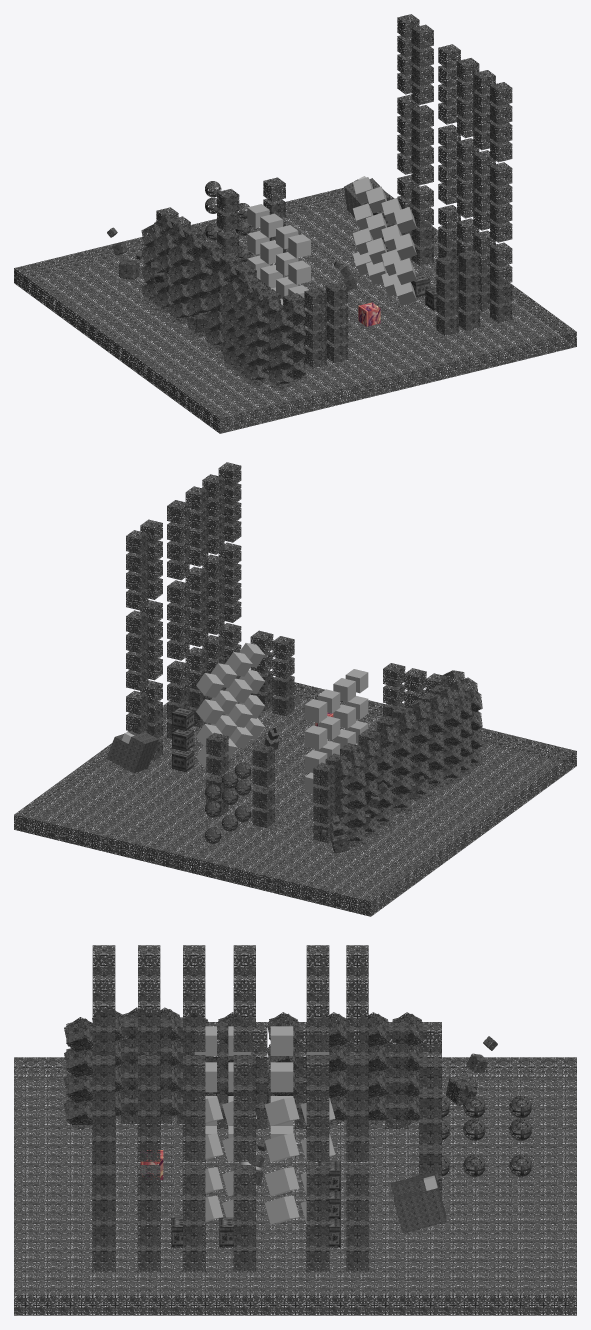
File: testScene.fbx
3 renders of one model, top to bottom at view 1: azimuth 30°, elevation 25°; view 2: azimuth 150°, elevation 25°; view 3: azimuth 270°, elevation 25°, orthographic. The views are drawn at different scales.
Visible parts, largest first — view 1: polySurface1469; view 2: polySurface1469; view 3: polySurface1469, polySurface1726, polySurface1792, polySurface1808, pCube124, pCube131, pCube136, pCube140, pCube144, polySurface1437, polySurface1769, polySurface1784 (+95 smaller).
Part boxes in pixels (x1,y1,x2,y2): polySurface1469: (14, 187, 576, 433); polySurface1469: (14, 676, 576, 916); polySurface1469: (14, 1057, 576, 1315); polySurface1726: (66, 1018, 93, 1052); polySurface1792: (92, 945, 115, 975); polySurface1808: (306, 945, 329, 975); pCube124: (270, 1062, 293, 1092); pCube131: (264, 1195, 299, 1224); pCube136: (264, 1167, 299, 1195); pCube140: (264, 1133, 299, 1162); pCube144: (264, 1097, 299, 1125); polySurface1437: (92, 1165, 115, 1194); polySurface1769: (92, 1055, 115, 1084); polySurface1784: (306, 1055, 329, 1084).
Size of the model in its own units: 100 by 66 by 100.
Materials: 5 (3 with a texture image).
